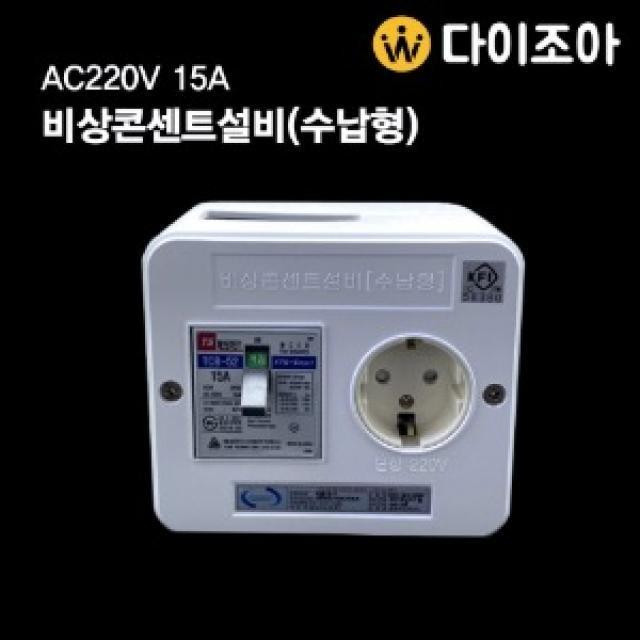typeb: (292, 205, 520, 583)
